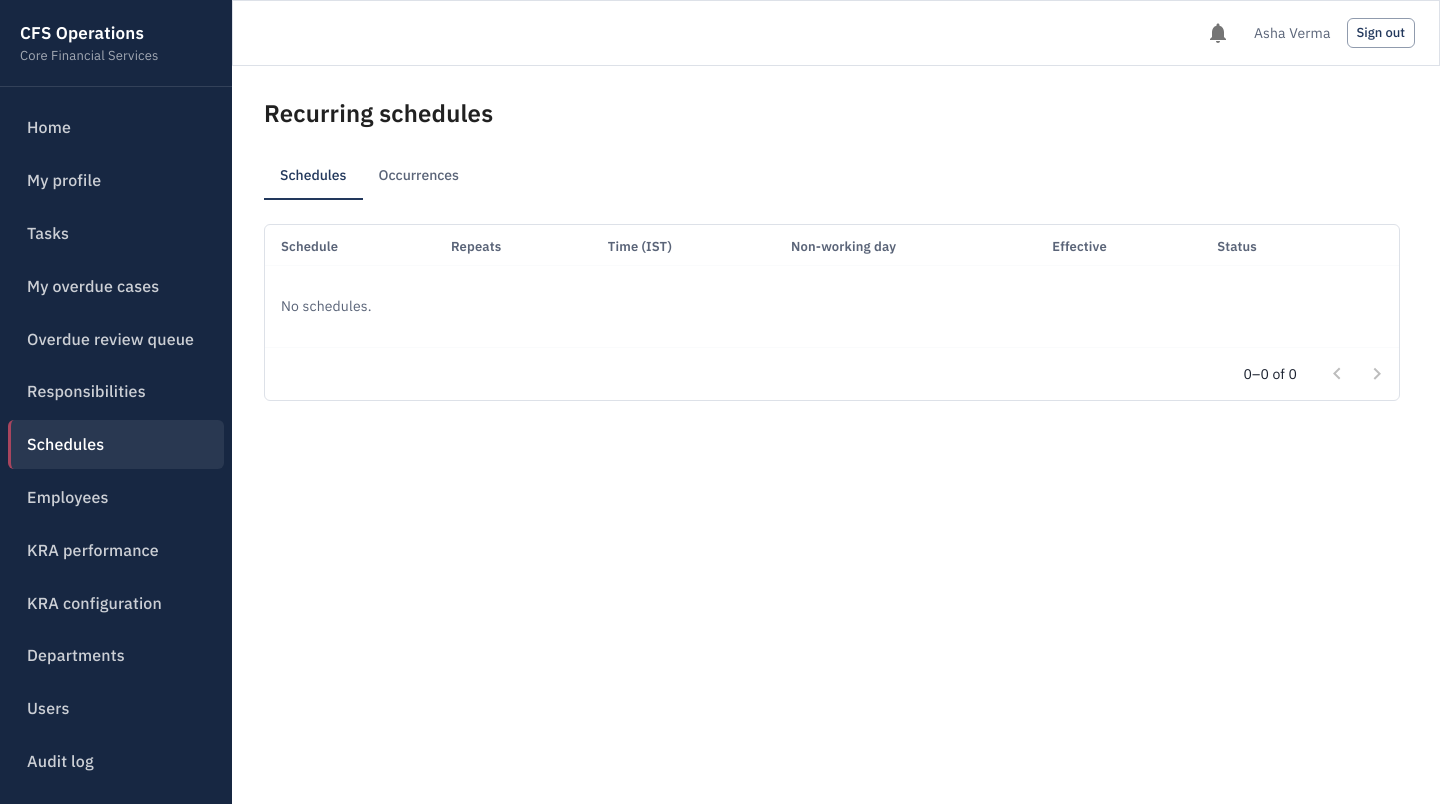
Test: Schedules › shows the occurrence ledger with a result filter
This screenshot has width=1440, height=804.
Click the tab "Occurrences" at [419, 176], box [362,152,475,200]
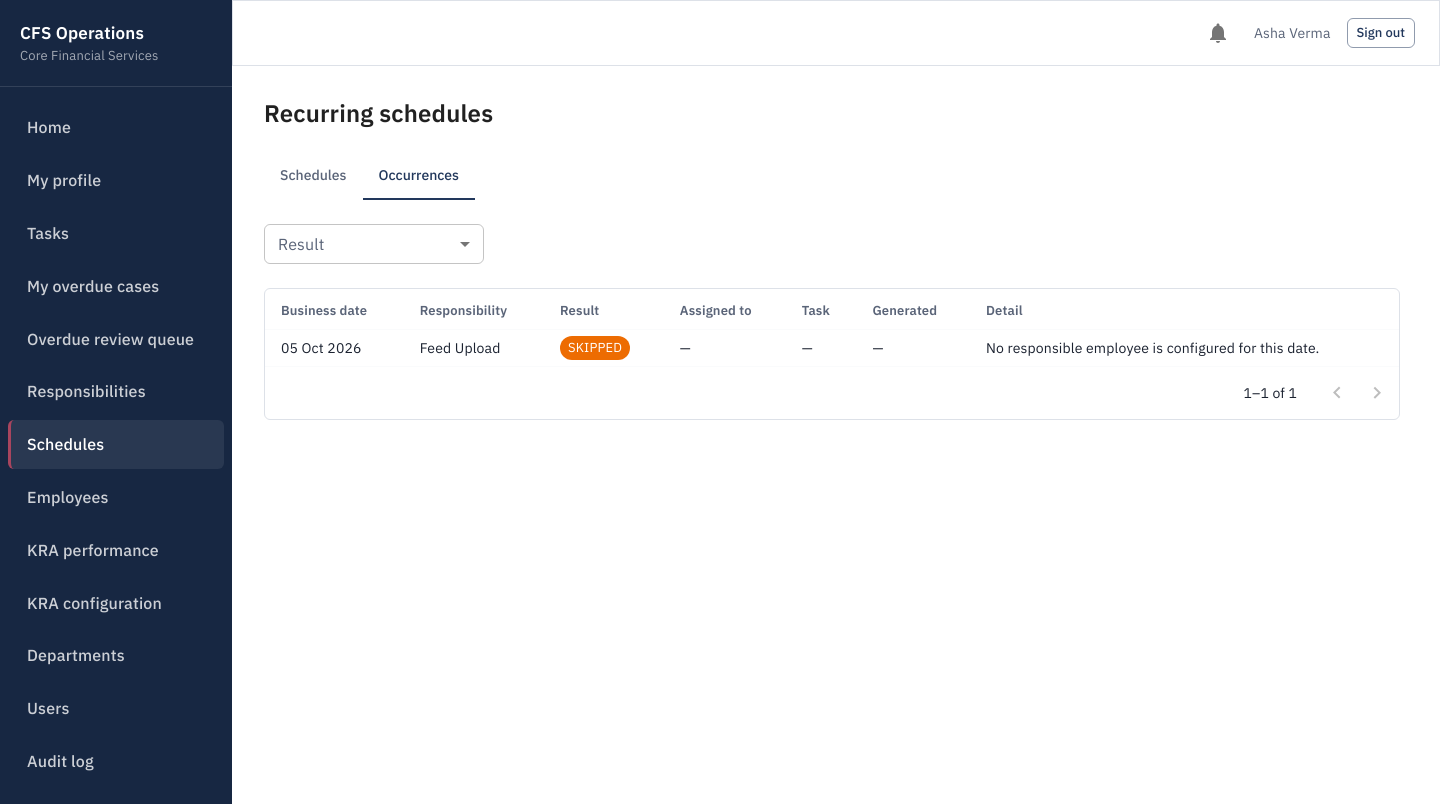
Check: the text "SKIPPED" is shown, box [568,339,622,356]
Check: the text "No responsible employee is configured for this date." is shown, box [970,330,1399,366]
Click the dropdown named "Result" at [374, 244], box [264,224,484,264]
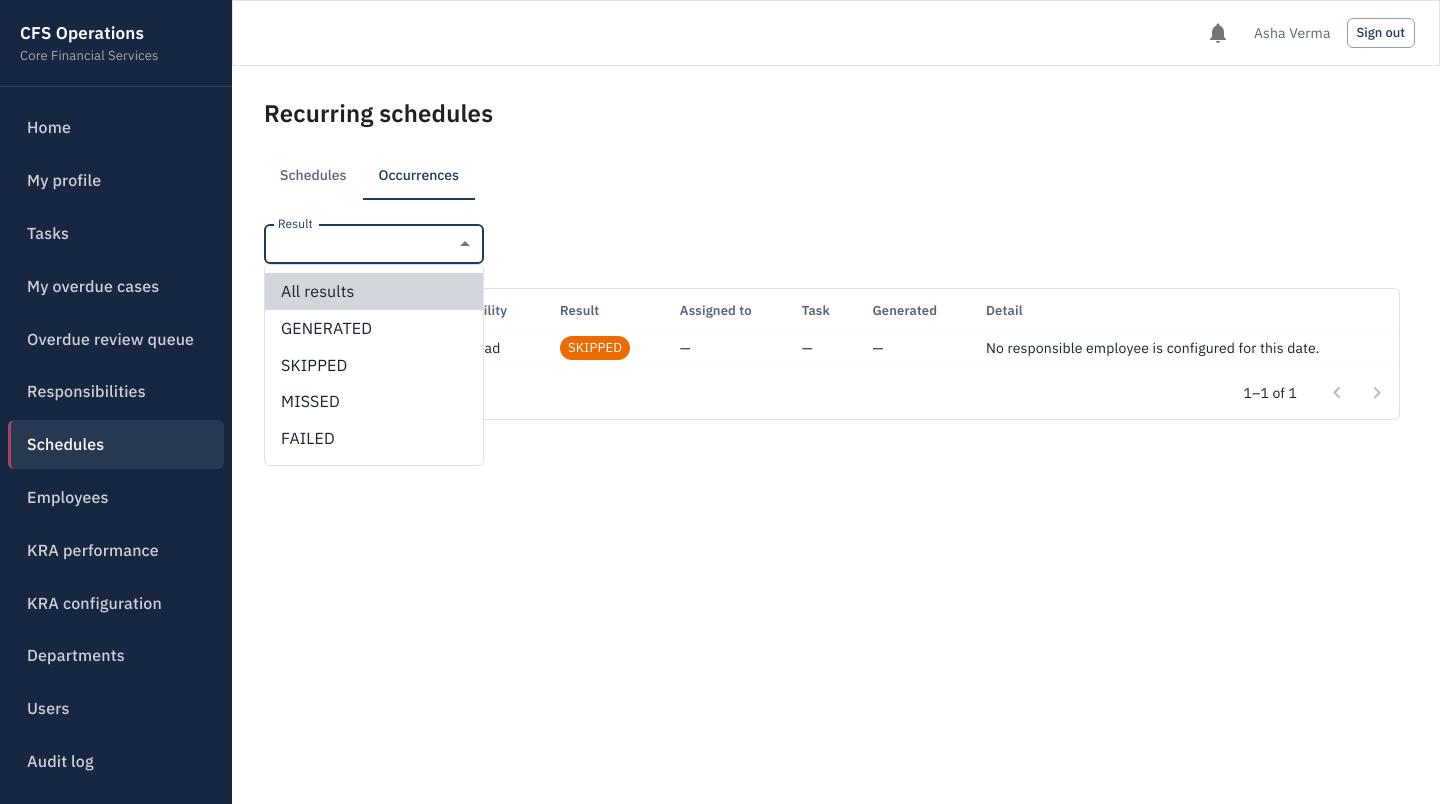
Click the option "MISSED" at [310, 401], box [281,391,340,411]
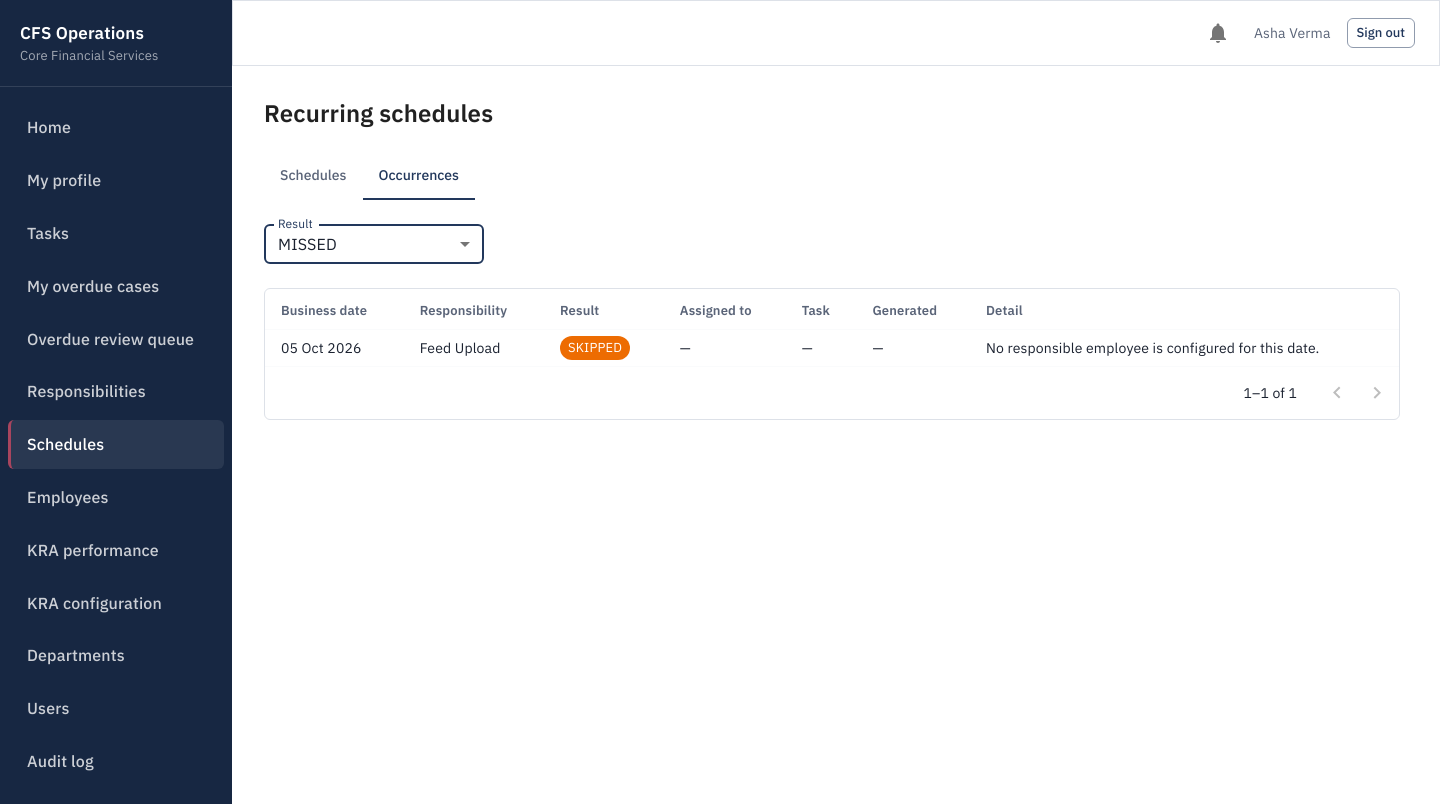
Check: the dropdown named "Result" reads "MISSED", box [278,234,337,254]
